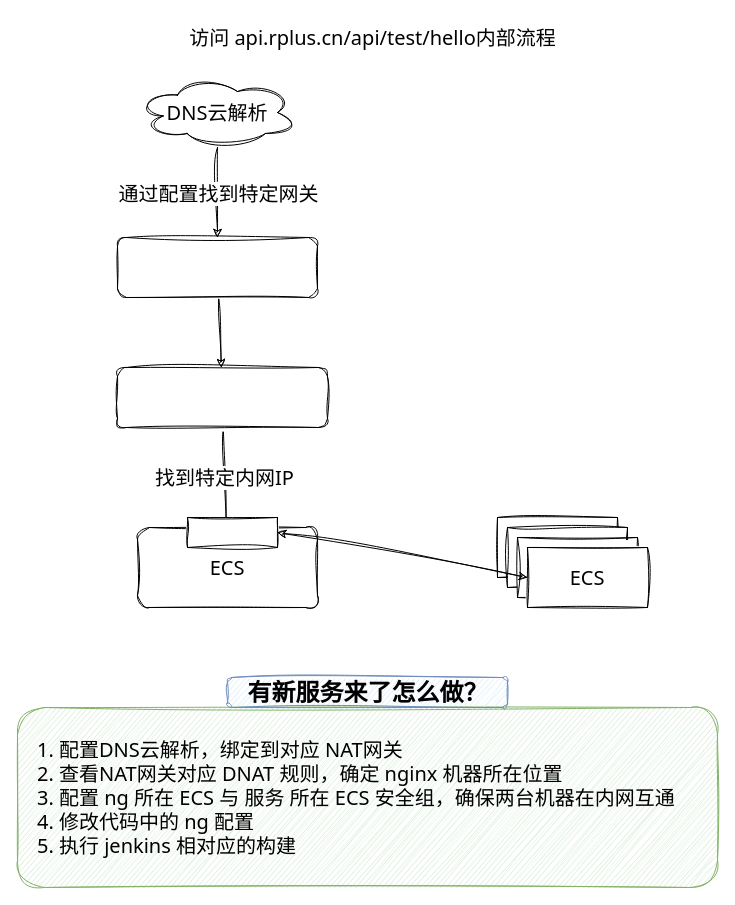
The diagram is 735 pixels wide and 905 high, and some of its shapes have lost their labels. Here are the shapes that lost their labels. From the top down, the centre of each, then its label:
At (x=217, y=267): "NAT网关".
At (x=222, y=397): "DNAT规则判断".
At (x=232, y=532): "NG".
